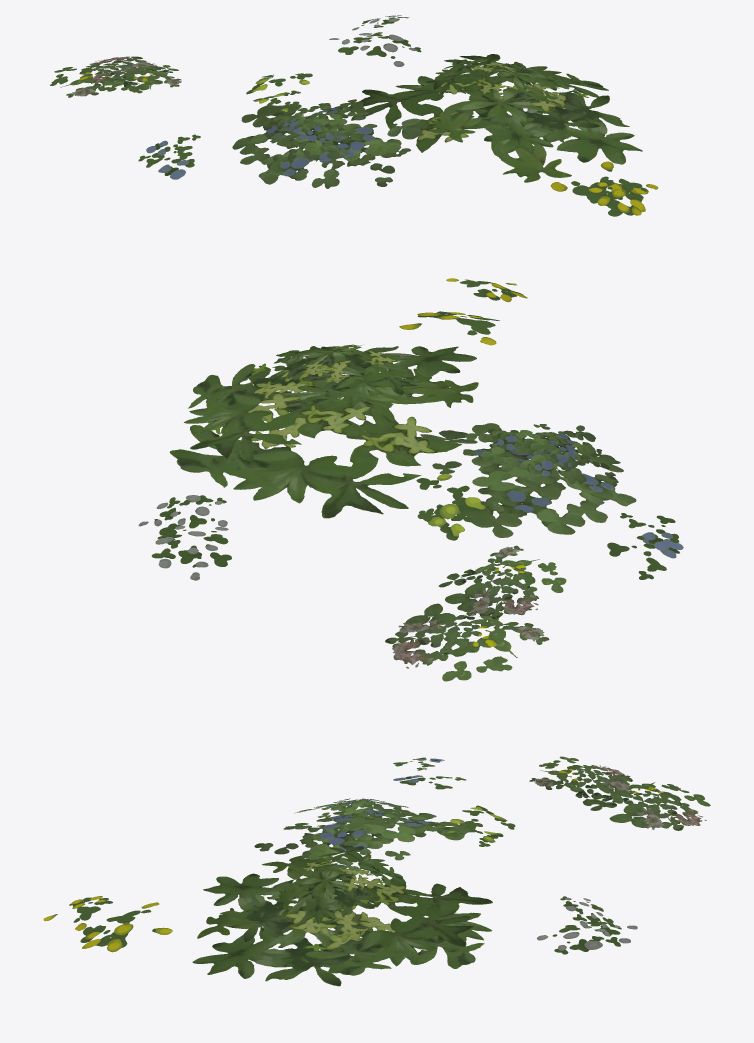
File: flowers_001.fbx
The picture shows the model from 3 angles, top to bottom: view 1: azimuth 30°, elevation 25°; view 2: azimuth 150°, elevation 25°; view 3: azimuth 270°, elevation 25°; orthographic projection. The views are drawn at different scales.
Visible parts, largest first — view 1: flowers_001; view 2: flowers_001; view 3: flowers_001.
Boxes of the visible parts, x1,y1,x2,y2 form: flowers_001: (50, 15, 658, 216); flowers_001: (138, 278, 683, 681); flowers_001: (43, 756, 710, 986).
Size of the model in its own units: 27165 by 3551 by 30524.
